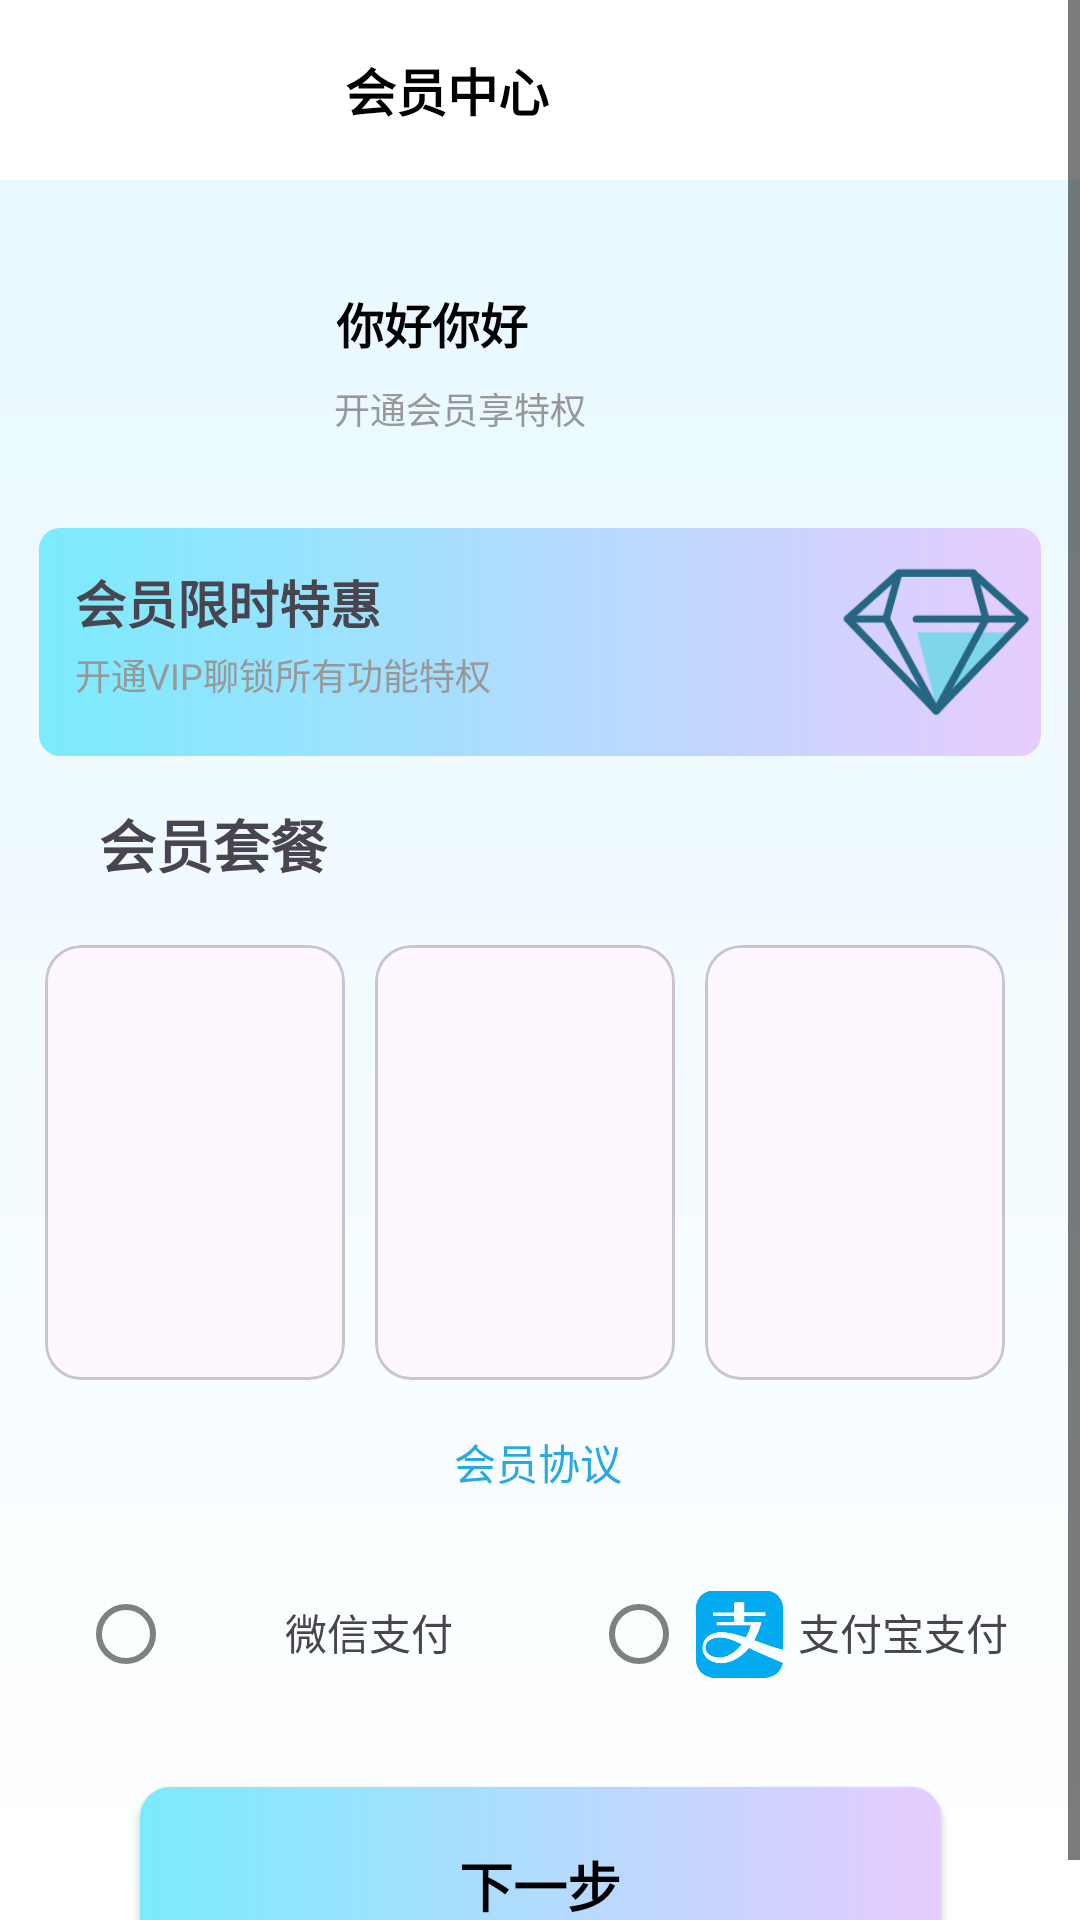

Where to tap for icons on this 1080*1920 app screen, as (x,y):
diamond: (936,642)
